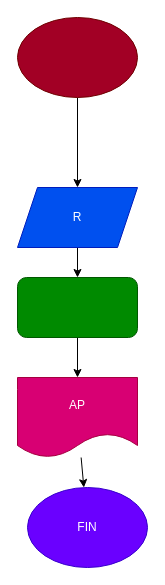
The diagram is 165 pixels wide and 585 high, and some of its shapes have lost their labels. Each missing label, with the centre of its shape:
A:PI*R2 P:2PI*R: [77,307]
INICIO: [77,57]
